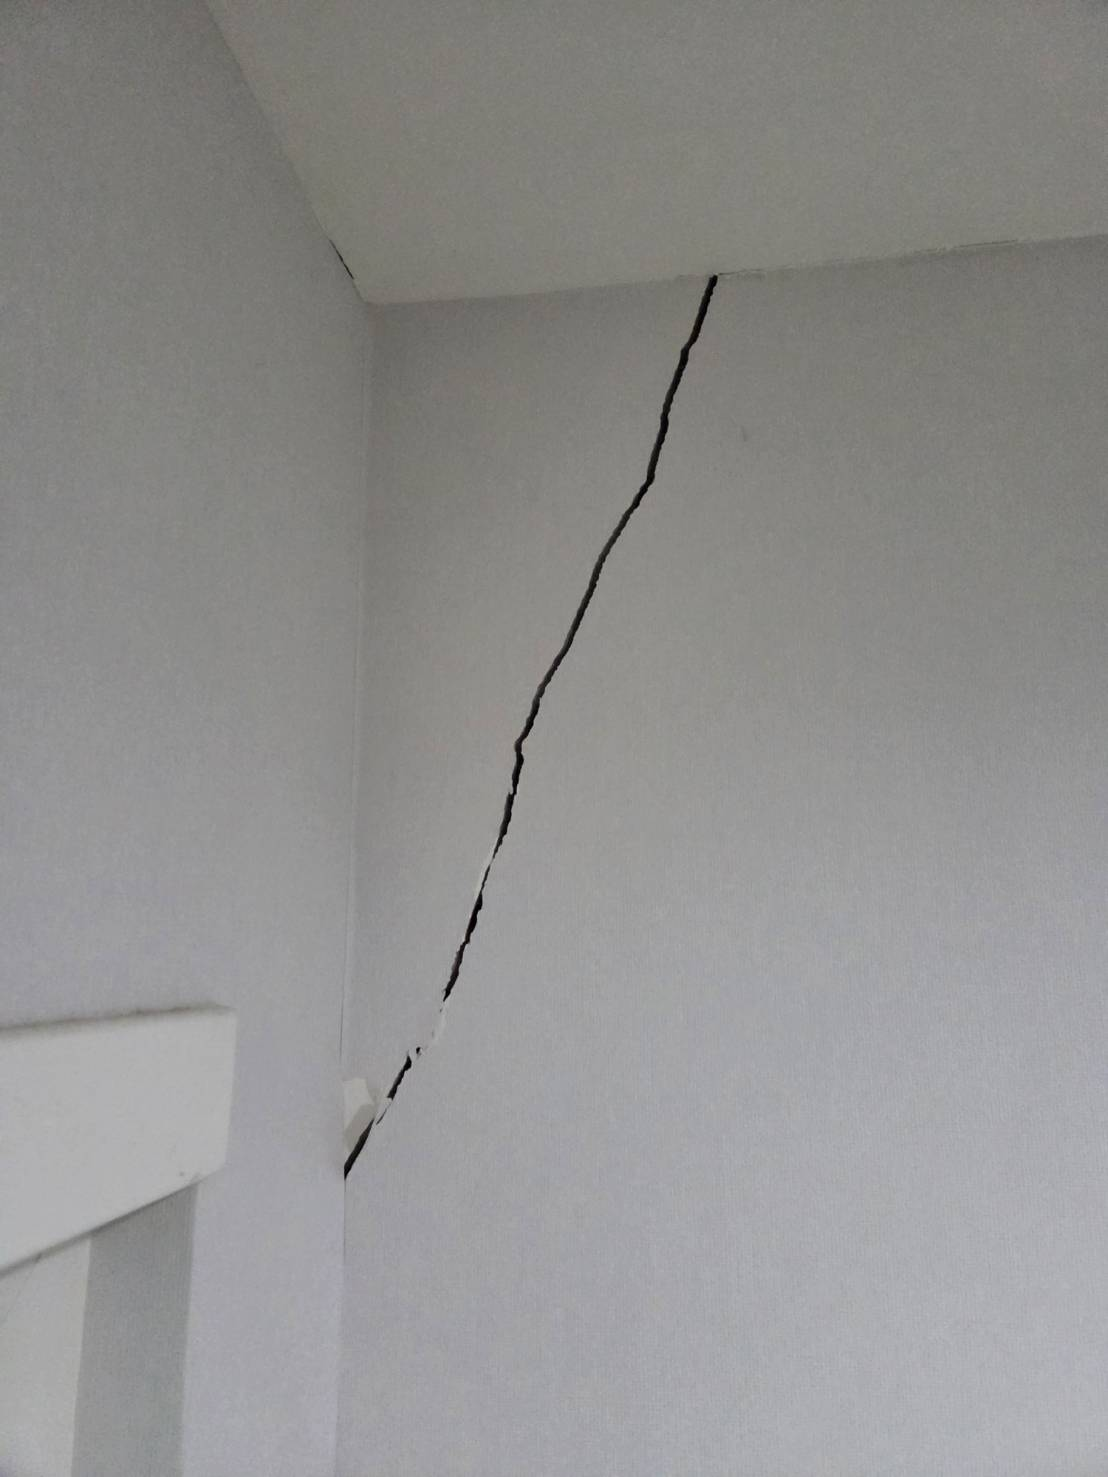Medium: (372, 306, 809, 1159)
